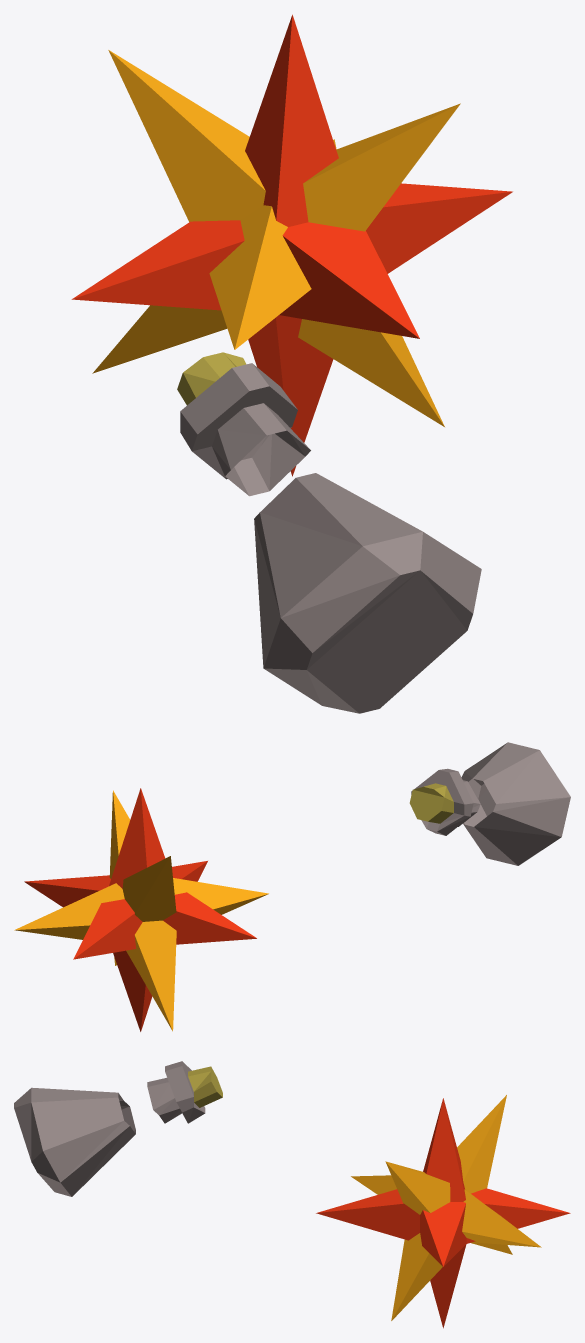
File: gfx_176.obj
3 renders of one model, top to bottom at view 1: azimuth 30°, elevation 25°; view 2: azimuth 150°, elevation 25°; view 3: azimuth 270°, elevation 25°, orthographic. The views are drawn at different scales.
Size of the model in its own units: 0.4922 by 0.3438 by 0.75.
